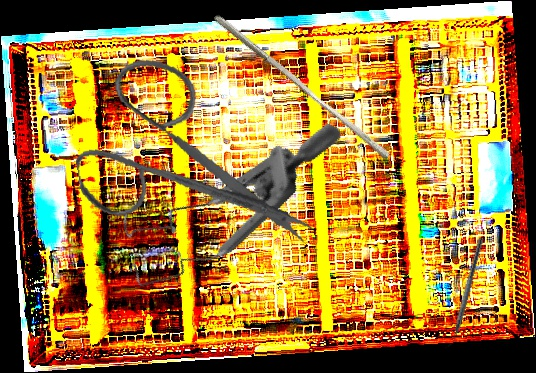Chopper: (443, 236, 484, 351)
Iris Scissors: (61, 36, 316, 280)
Pusher: (207, 13, 396, 161)
Speculum: (98, 60, 344, 336)
